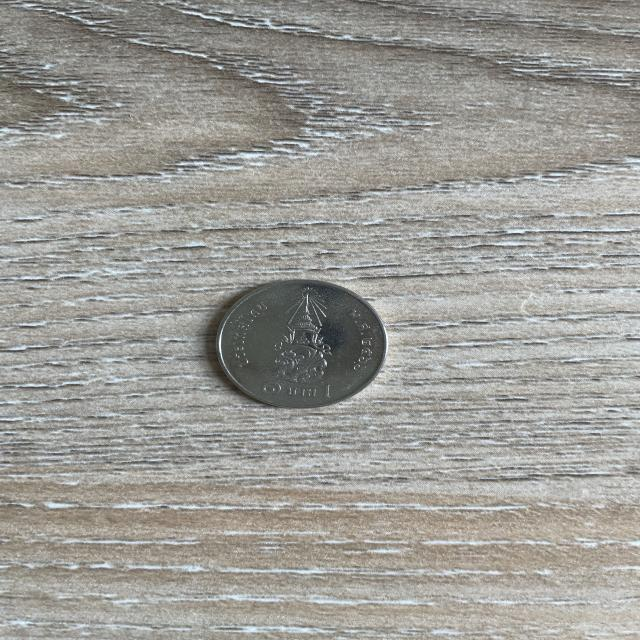1 Bath: (196, 268, 407, 422)
